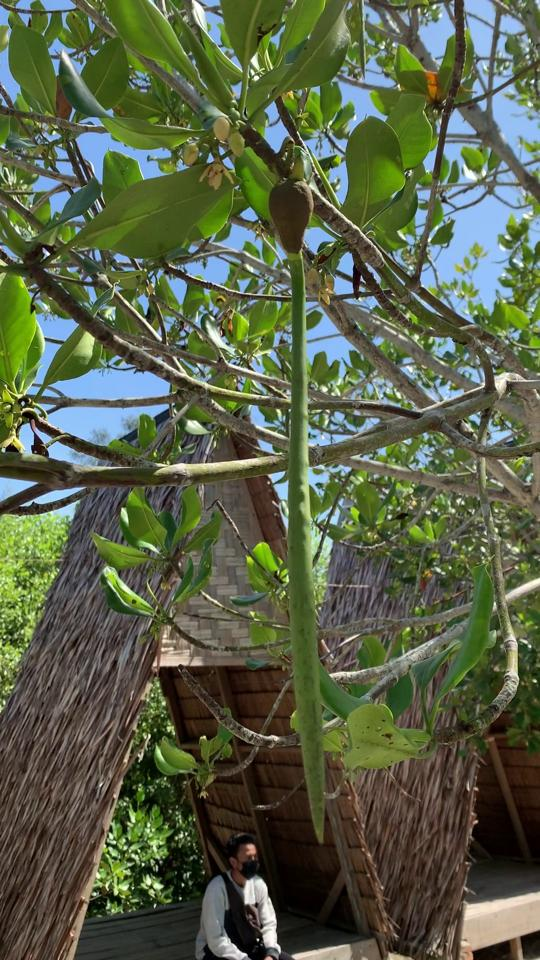setengah matang: (259, 148, 335, 852)
